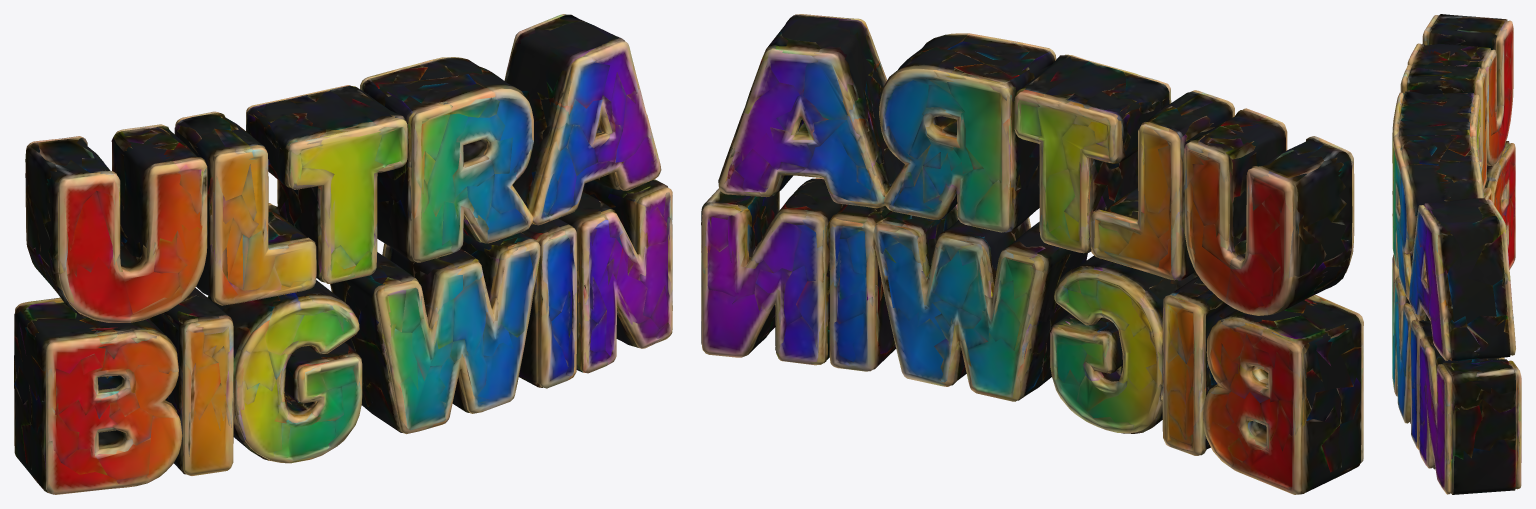
Rendered from ultra.glb.
The picture shows the model from 3 angles, left to right: view 1: azimuth 30°, elevation 25°; view 2: azimuth 150°, elevation 25°; view 3: azimuth 270°, elevation 25°; orthographic projection. The views are drawn at different scales.
Size of the model in its own units: 1.9 by 0.9286 by 0.4277.
Materials: 1 (1 with a texture image).
